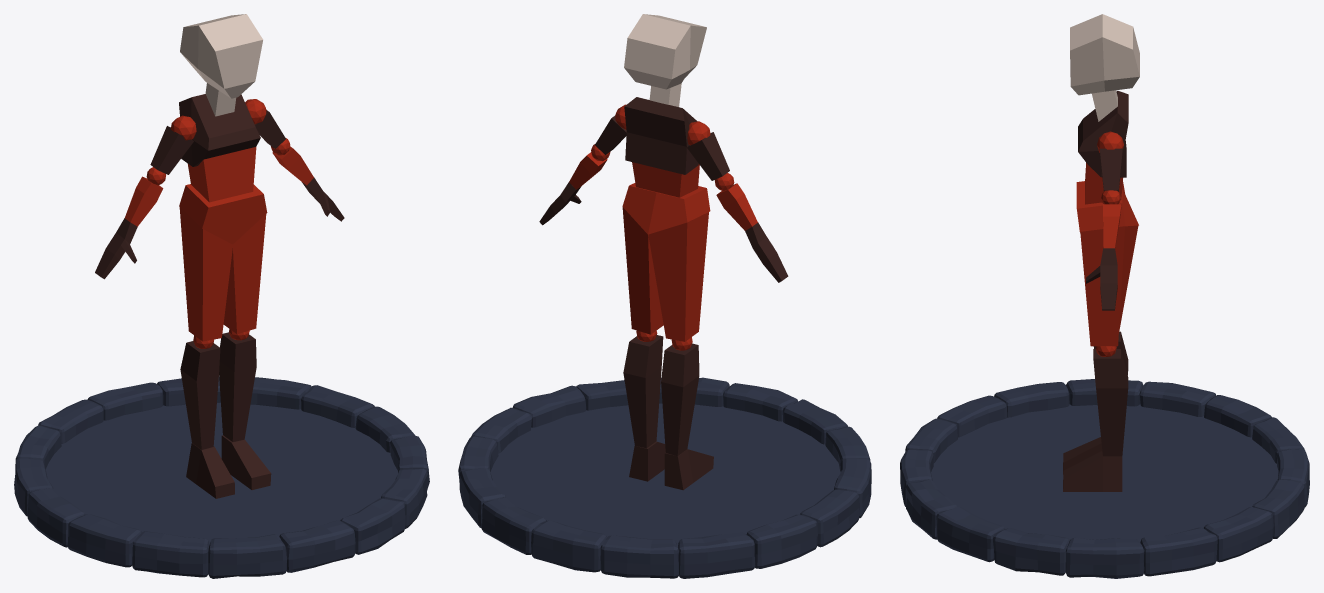
The model's file is VisualModel.fbx.
3 renders of one model, left to right at view 1: azimuth 30°, elevation 25°; view 2: azimuth 150°, elevation 25°; view 3: azimuth 270°, elevation 25°, orthographic.
Visible parts, largest first — view 1: Circle, Cube, Head, RightLegTop, Torso_1, LeftLegBottom, RightLegBottom, LeftLegTop, Ass, Torso_2, RightSole, LeftSole (+7 smaller); view 2: Circle, Cube, RightLegTop, Head, Torso_1, LeftLegBottom, RightLegBottom, LeftLegTop, Ass, Torso_2, RightSole, MidTopLeftHand.001 (+7 smaller); view 3: Circle, Cube, Head, LeftLegTop, LeftLegBottom, Torso_1, LeftSole, Ass, LeftHeand, MidTopLeftHand, BottomLeftHand, Torso_2 (+2 smaller).
Boxes of the visible parts, x1,y1,x2,y2 form: Circle: [45, 403, 397, 544]; Cube: [14, 376, 429, 578]; Head: [180, 14, 262, 98]; RightLegTop: [179, 207, 232, 341]; Torso_1: [179, 94, 260, 166]; LeftLegBottom: [219, 332, 256, 441]; RightLegBottom: [180, 341, 220, 449]; LeftLegTop: [223, 214, 266, 334]; Ass: [179, 184, 267, 244]; Torso_2: [188, 147, 256, 202]; RightSole: [186, 443, 234, 498]; LeftSole: [221, 435, 271, 489]; Circle: [490, 403, 840, 547]; Cube: [458, 377, 871, 578]; RightLegTop: [648, 212, 708, 341]; Head: [624, 14, 706, 89]; Torso_1: [624, 97, 698, 174]; LeftLegBottom: [623, 335, 663, 448]; RightLegBottom: [661, 343, 699, 455]; LeftLegTop: [622, 207, 663, 334]; Ass: [622, 183, 710, 234]; Torso_2: [632, 162, 699, 197]; RightSole: [664, 449, 713, 490]; MidTopLeftHand.001: [687, 132, 729, 180]; Circle: [931, 404, 1278, 542]; Cube: [900, 379, 1309, 578]; Head: [1070, 14, 1139, 95]; LeftLegTop: [1080, 225, 1138, 346]; LeftLegBottom: [1093, 349, 1128, 456]; Torso_1: [1078, 90, 1128, 177]; LeftSole: [1063, 451, 1122, 491]; Ass: [1076, 181, 1138, 232]; LeftHeand: [1086, 248, 1117, 310]; MidTopLeftHand: [1099, 148, 1122, 191]; BottomLeftHand: [1103, 204, 1121, 248]; Torso_2: [1085, 163, 1122, 204].
Size of the model in its own units: 216 by 274 by 216.
